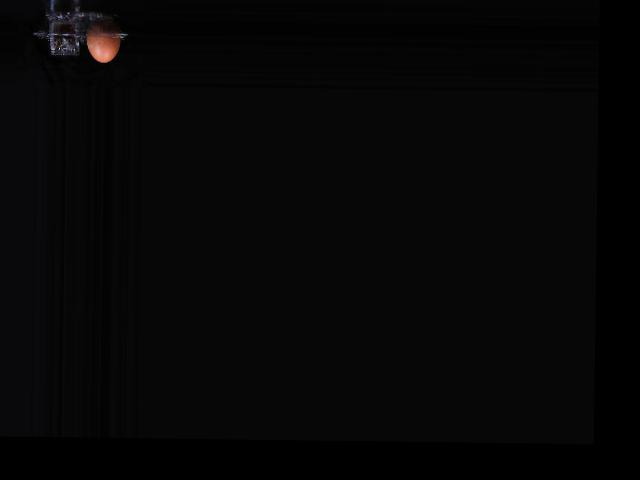egg: (87, 16, 122, 62)
